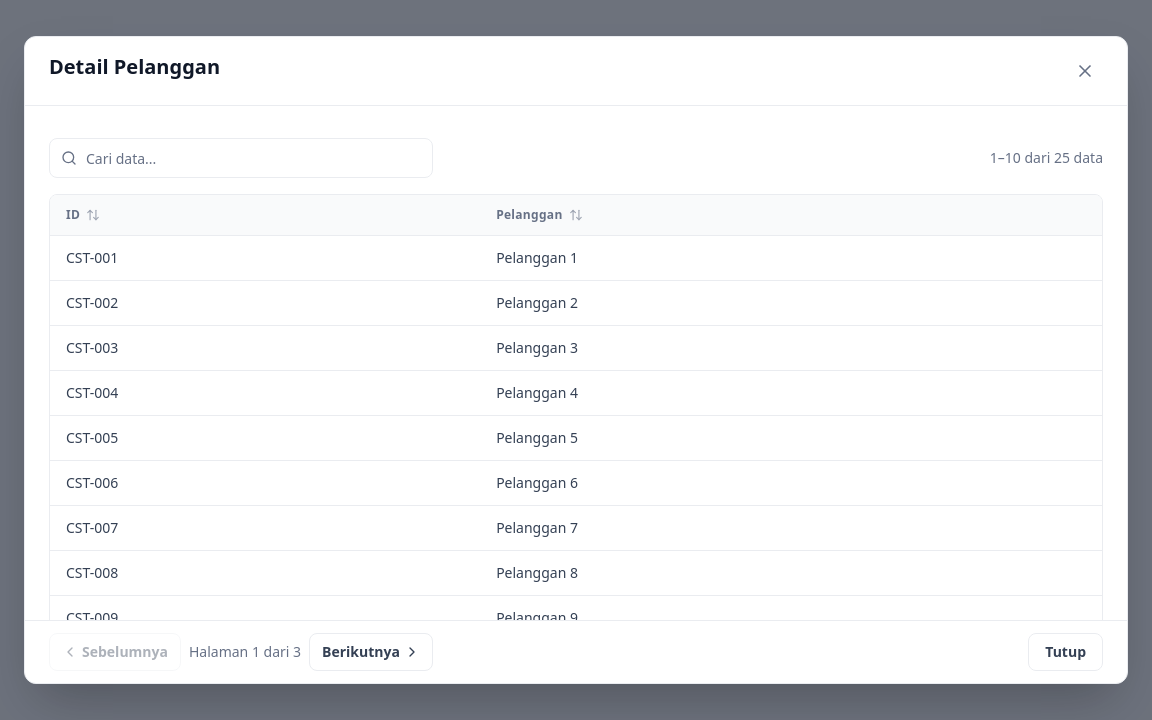
it: DetailTableModal pagination › returns to the first page when a search is entered
The image size is (1152, 720).
Click the button with aria-label "Halaman berikutnya" at (371, 652), box [309, 633, 433, 671]
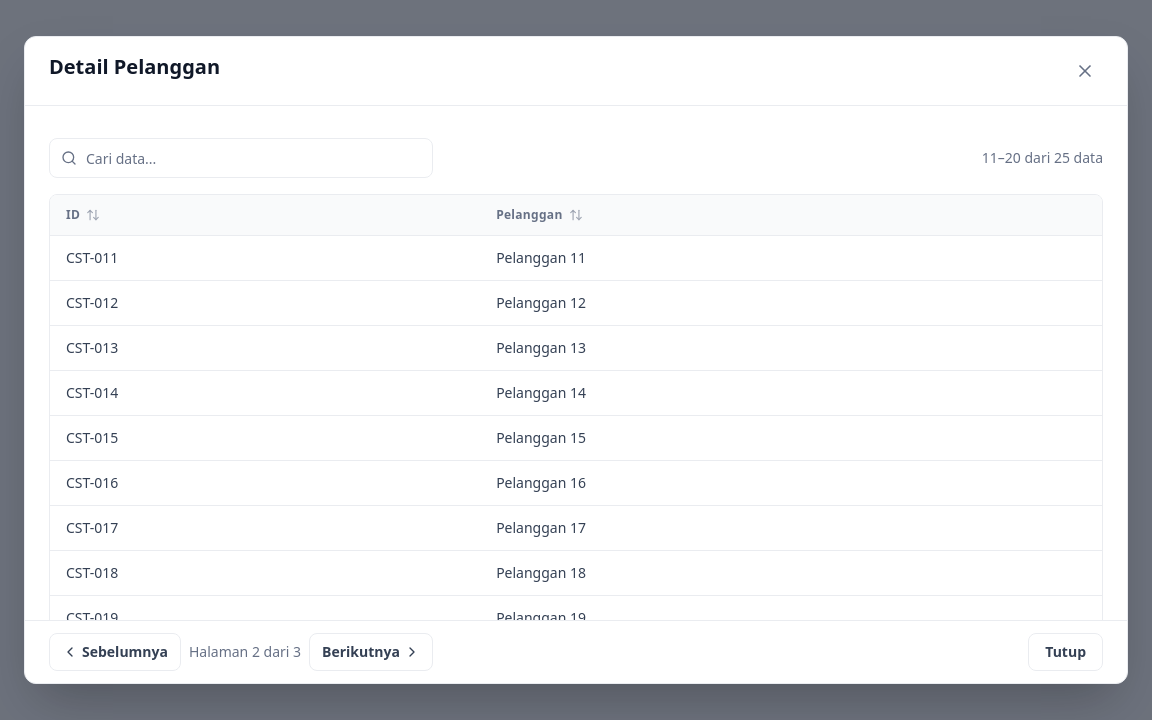
Type "Pelanggan 25" into the search field with placeholder "Cari data..." at (241, 158), box [49, 138, 433, 178]
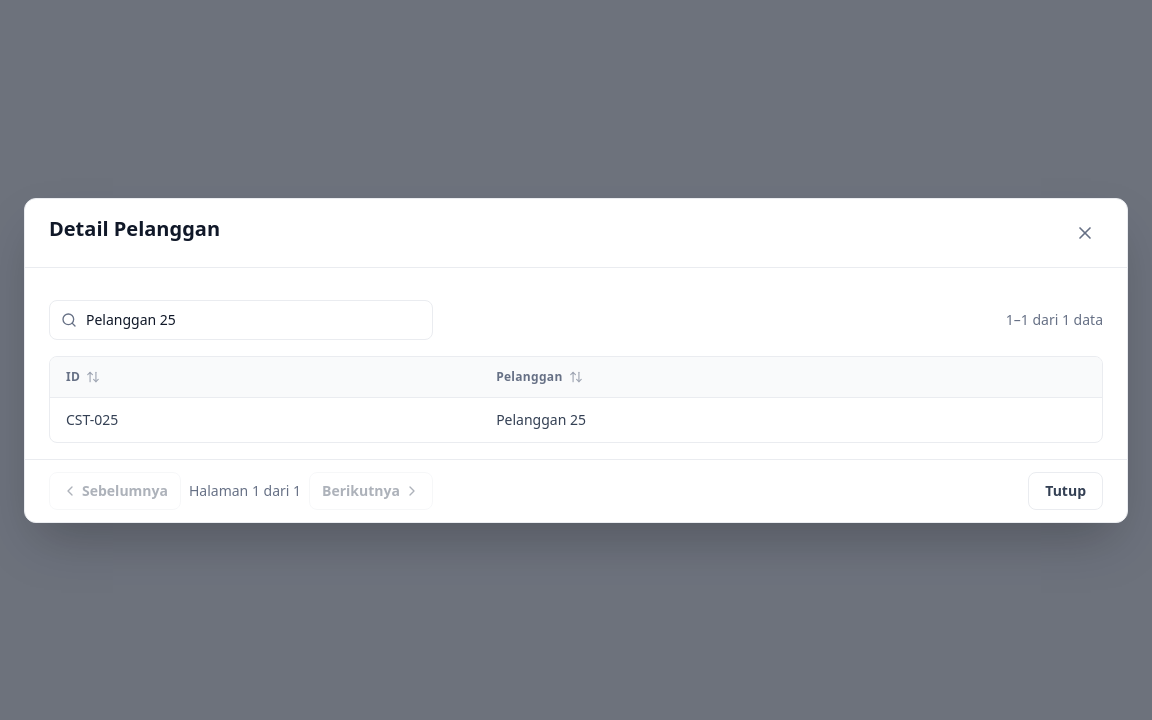
Now the text "Halaman 1 dari 1" is shown, box [189, 480, 301, 500]
Now the text "CST-025" is shown, box [66, 410, 118, 428]
Now the text "1–1 dari 1 data" is shown, box [1006, 310, 1103, 330]
